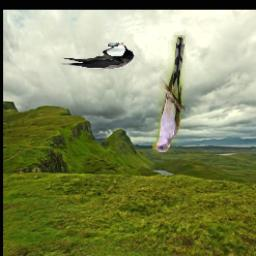Crow: (60, 44, 134, 70)
Cuckoo: (152, 36, 186, 153)
